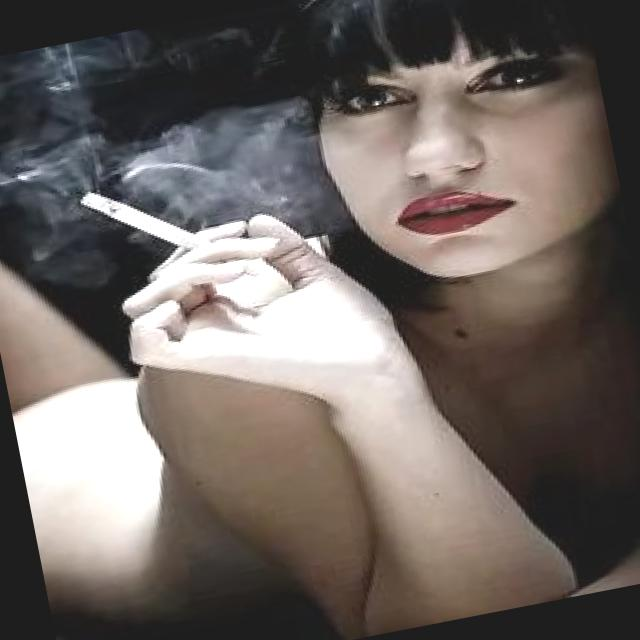smoke: (78, 160, 228, 276)
